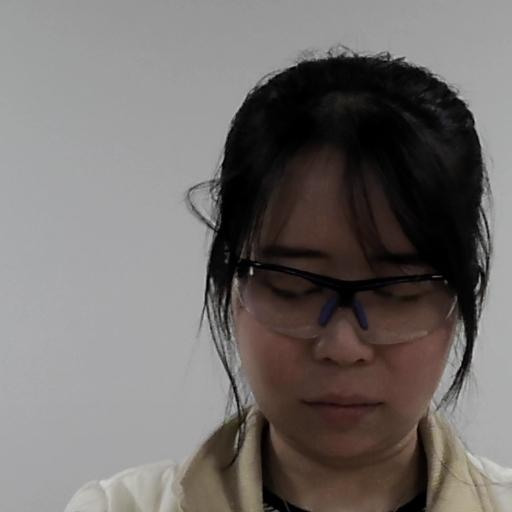glasses: (208, 62, 493, 450)
